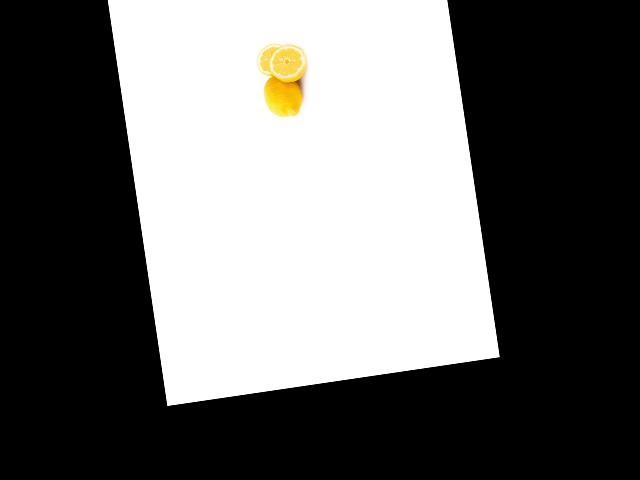lemon: (259, 71, 306, 123)
